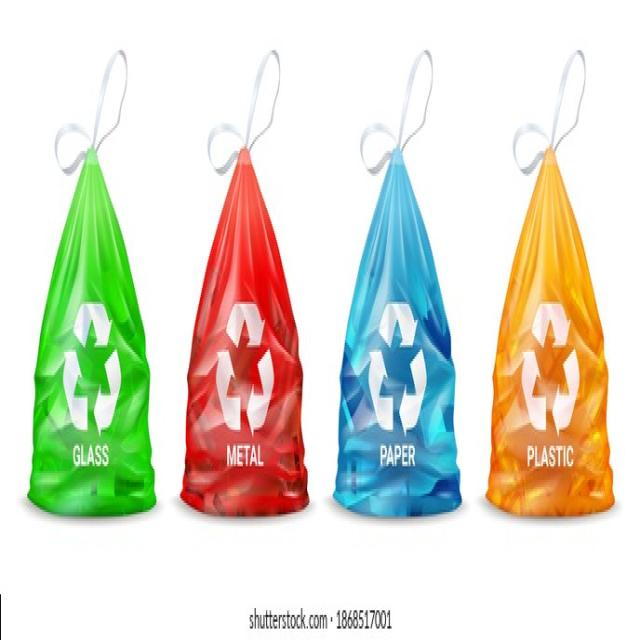plastic: (36, 41, 615, 569)
trash: (21, 50, 625, 592)
